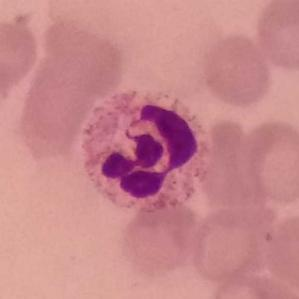Neutrophil: (74, 84, 212, 214)
RBC: (39, 17, 128, 98), (187, 204, 276, 285), (117, 196, 207, 276), (14, 72, 90, 160), (198, 32, 274, 109), (194, 131, 268, 209), (238, 116, 299, 206), (259, 208, 299, 297), (252, 0, 299, 72), (0, 16, 42, 94), (205, 265, 299, 299)
